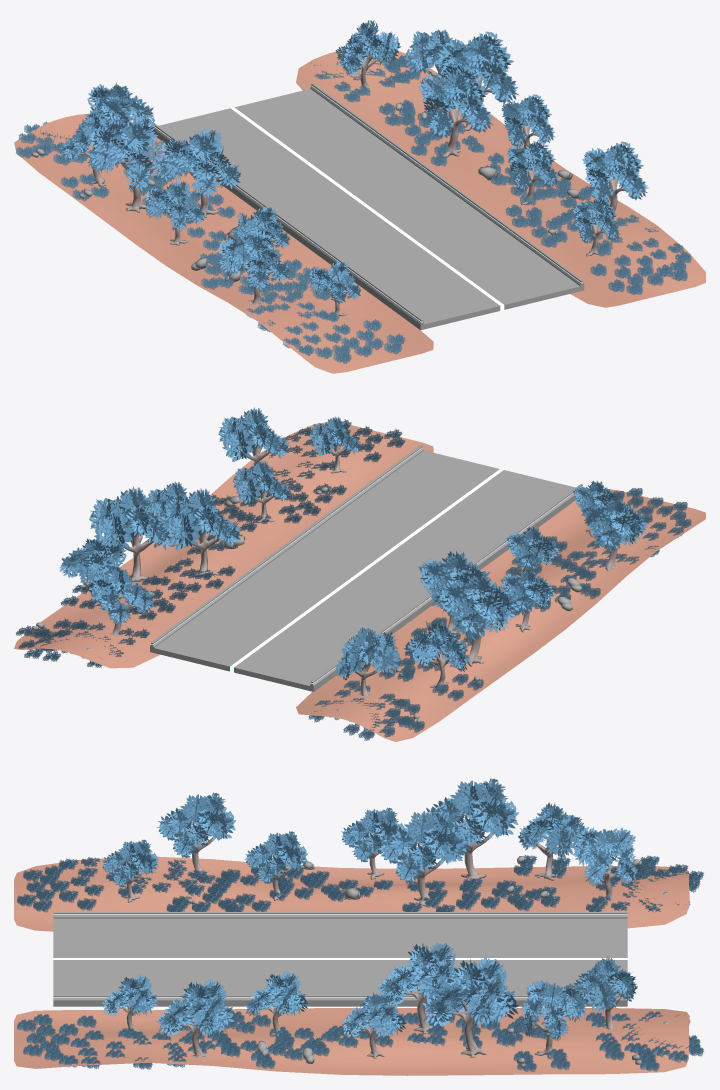
Rendered from grassPlatform.glb.
3 renders of one model, top to bottom at view 1: azimuth 30°, elevation 25°; view 2: azimuth 150°, elevation 25°; view 3: azimuth 270°, elevation 25°, orthographic. The views are drawn at different scales.
Visible parts, largest first — view 1: Plane, Cube; view 2: Plane, Cube; view 3: Plane, Cube.
Boxes of the visible parts, x1,y1,x2,y2 form: Plane: (14,20,705,373); Cube: (153,83,584,330); Plane: (14,407,705,741); Cube: (150,445,582,691); Plane: (14,778,703,1075); Cube: (53,912,627,1006).
Bounding box in the file's own units: 91.47 × 20.44 × 121.
6 materials, 2 textured.
